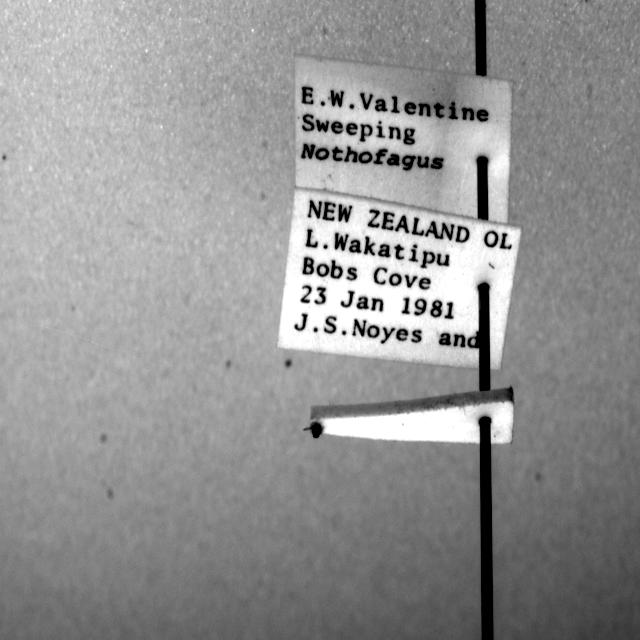typed_label: (279, 188, 521, 369), (295, 56, 512, 223)
